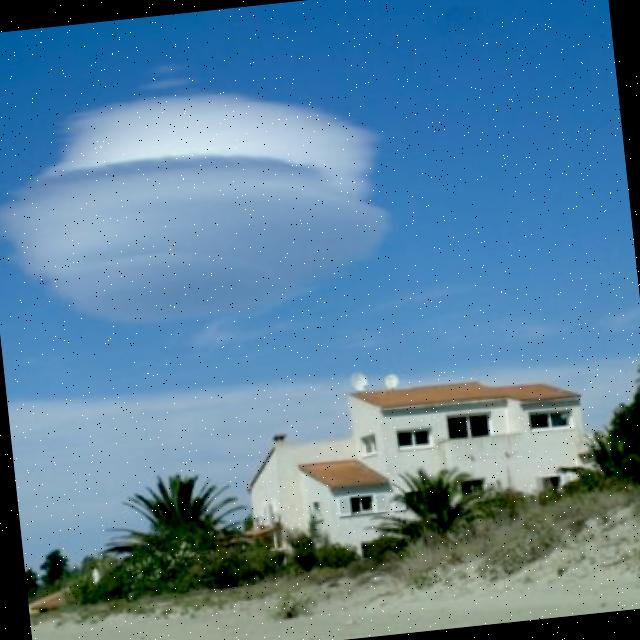Ac: (1, 54, 440, 371)
